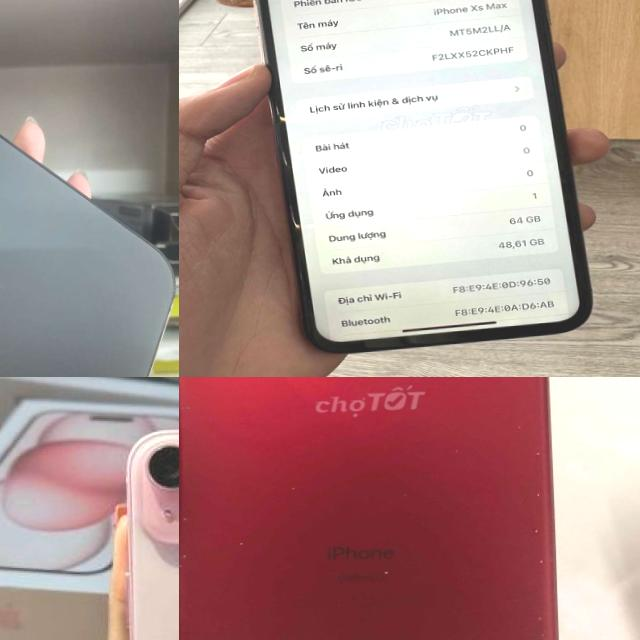gen_14: (0, 11, 179, 377)
gen_15: (106, 412, 179, 640)
gen_7_8: (179, 377, 590, 640)
gen_x_xs: (224, 0, 617, 377)
